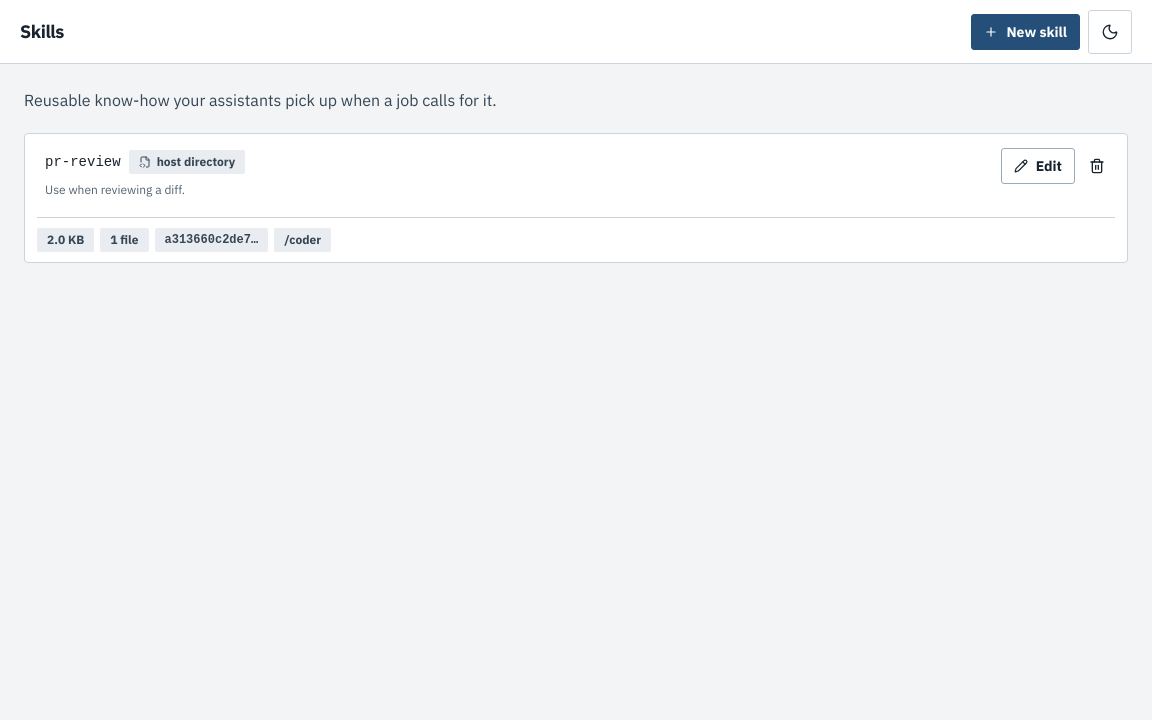
Test: SkillsPanel › opens a one-file skill in the markdown editor
This screenshot has width=1152, height=720.
Click the button with aria-label "Edit pr-review" at (1038, 166), box [1001,148,1075,184]
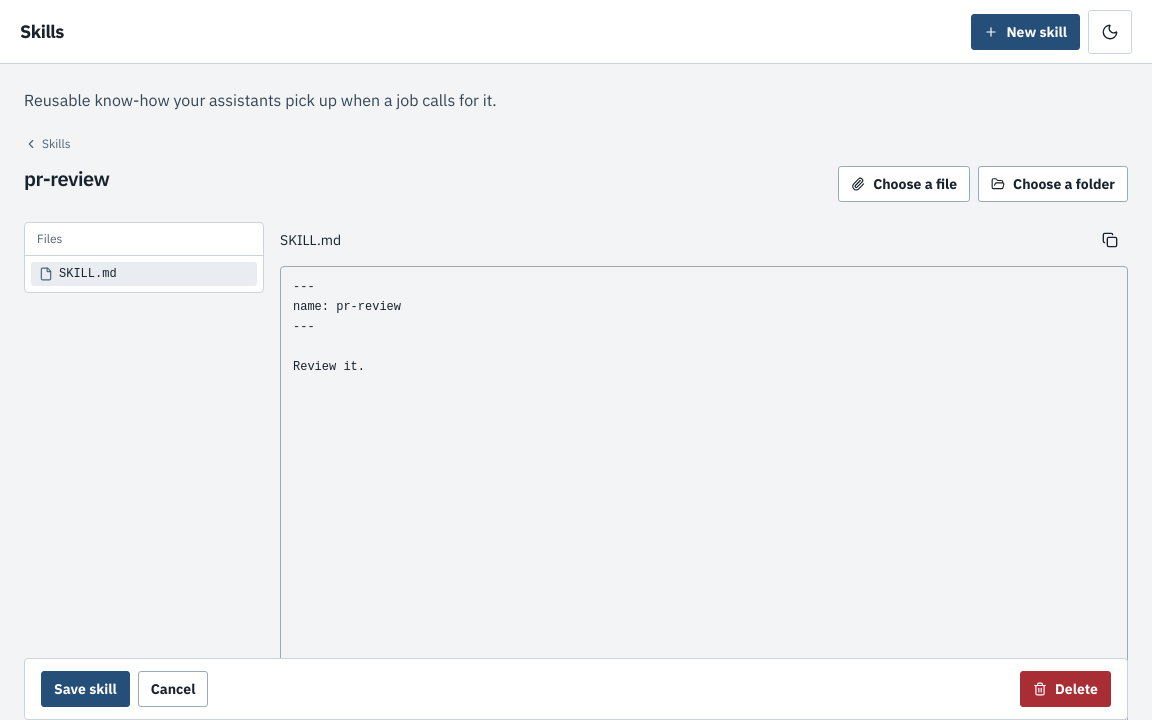
expect the form with test id "skill-editor" is shown: met
expect the button "Save skill" is shown: met, box [41,671,130,707]
expect the element with test id "skill-file-tree" is shown: met, box [24,222,264,293]
